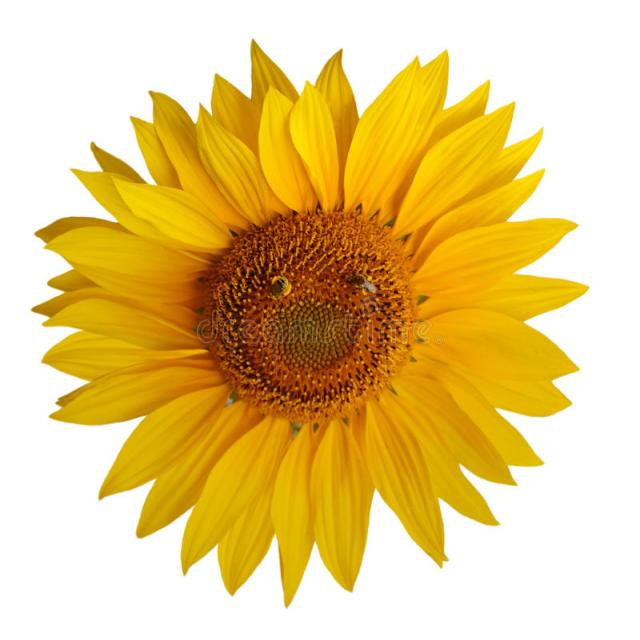sunflower: (16, 35, 606, 640)
